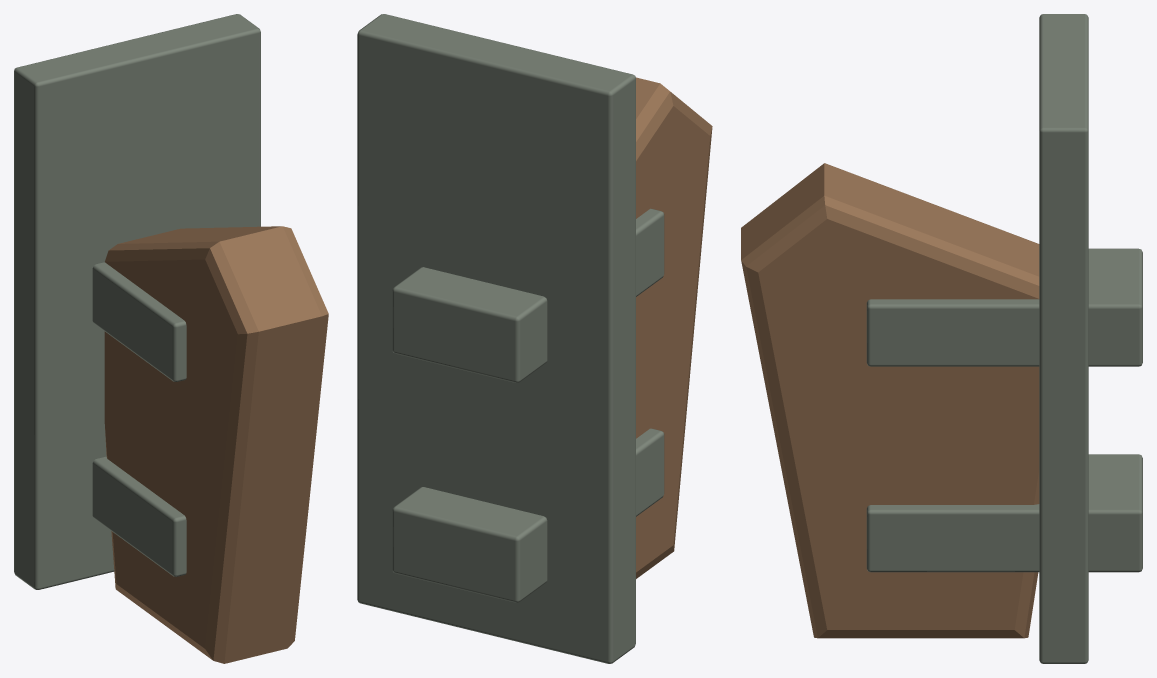
File: fps-weapon-set-and-firing-range-drop-leg-holster-7b47ffe0__19535.glb
The picture shows the model from 3 angles, left to right: view 1: azimuth 30°, elevation 25°; view 2: azimuth 150°, elevation 25°; view 3: azimuth 270°, elevation 25°; orthographic projection. The views are drawn at different scales.
Visible parts, largest first — view 1: drop-leg-holster; view 2: drop-leg-holster; view 3: drop-leg-holster.
Part boxes in pixels (left/top/right/bottom): drop-leg-holster: left=14, top=14, right=328, bottom=663; drop-leg-holster: left=357, top=14, right=712, bottom=663; drop-leg-holster: left=741, top=14, right=1142, bottom=663.
Size of the model in its own units: 0.14 by 0.308 by 0.2037.
